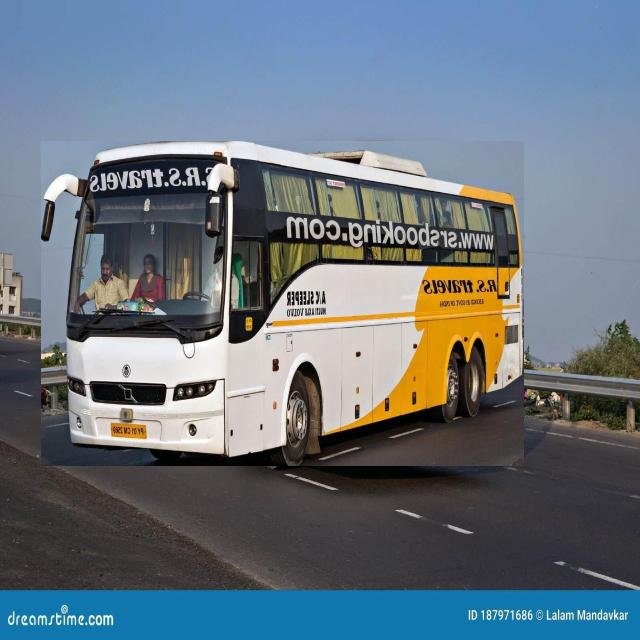bus: (41, 141, 524, 466)
